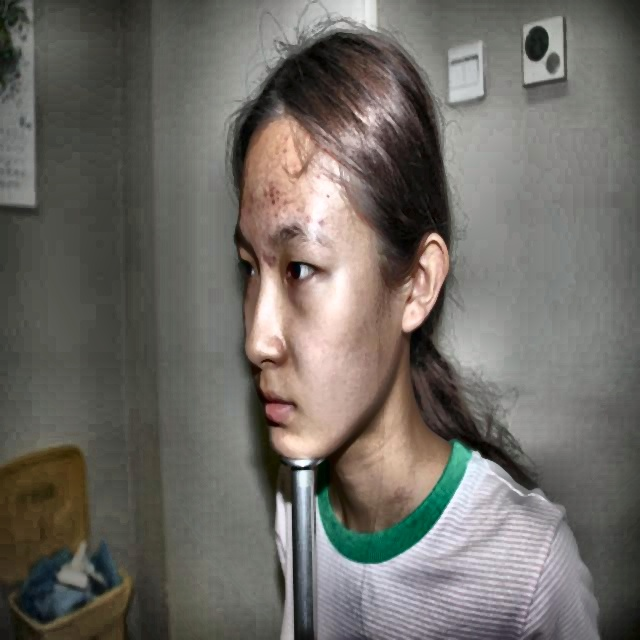pustule: (260, 245, 274, 275), (244, 158, 258, 181), (280, 132, 295, 151), (248, 187, 260, 203), (306, 210, 316, 228), (317, 213, 328, 229), (265, 179, 276, 194), (268, 199, 278, 208)
